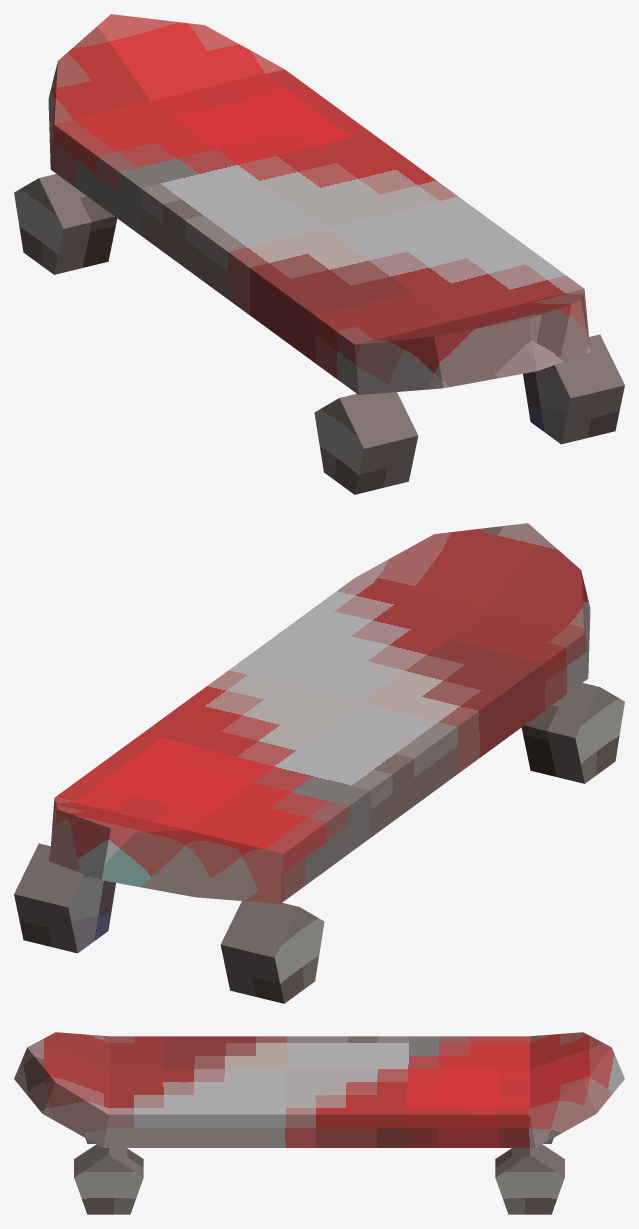
Rendered from item_finger_board.glb.
The picture shows the model from 3 angles, top to bottom: view 1: azimuth 30°, elevation 25°; view 2: azimuth 150°, elevation 25°; view 3: azimuth 270°, elevation 25°; orthographic projection. The views are drawn at different scales.
Visible parts, largest first — view 1: Techdeck, TechDeck_Wheels; view 2: Techdeck, TechDeck_Wheels; view 3: Techdeck, TechDeck_Wheels.
Part boxes in pixels (x1=…): Techdeck: x1=48, y1=14, x2=590, y2=394; TechDeck_Wheels: x1=14, y1=174, x2=624, y2=494; Techdeck: x1=48, y1=523, x2=590, y2=903; TechDeck_Wheels: x1=14, y1=683, x2=624, y2=1003; Techdeck: x1=14, y1=1032, x2=624, y2=1147; TechDeck_Wheels: x1=74, y1=1138, x2=564, y2=1214.
Bounding box in the file's own units: 0.0818 × 0.0525 × 0.2368.
Materials: 1 (1 with a texture image).
